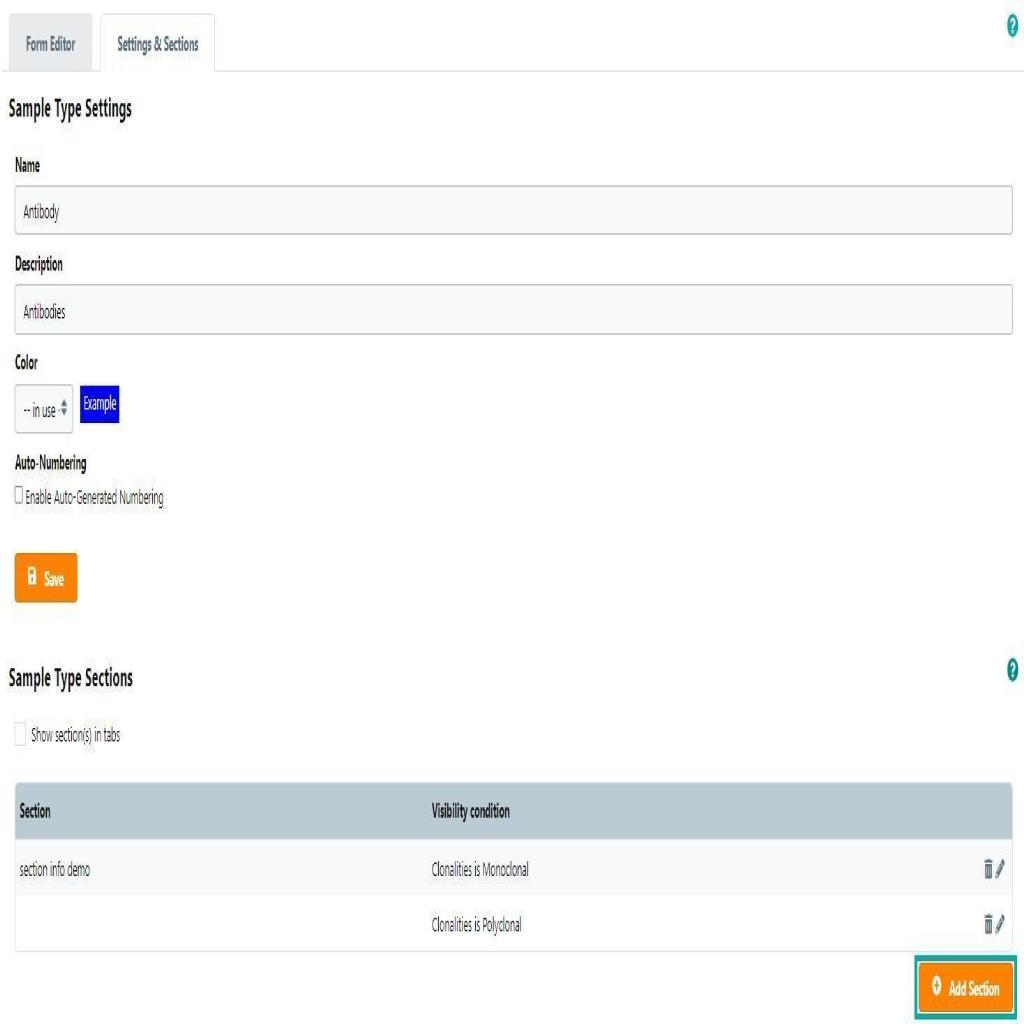button: (100, 13, 216, 69), (918, 961, 1014, 1014), (10, 15, 91, 69), (14, 553, 78, 603), (79, 387, 120, 425)
checkbox: (14, 720, 27, 748), (13, 483, 25, 507)
dropdown: (15, 384, 73, 434)
icon: (1005, 656, 1021, 683), (1005, 13, 1020, 39), (994, 909, 1007, 937), (982, 858, 994, 882), (995, 857, 1006, 882), (984, 912, 994, 934)
input: (16, 181, 1012, 235), (14, 286, 1013, 334)
label: (3, 85, 137, 130), (24, 482, 164, 514), (5, 664, 135, 692), (31, 722, 122, 747), (15, 448, 89, 476), (14, 251, 67, 275), (13, 154, 47, 179), (14, 350, 41, 377)
